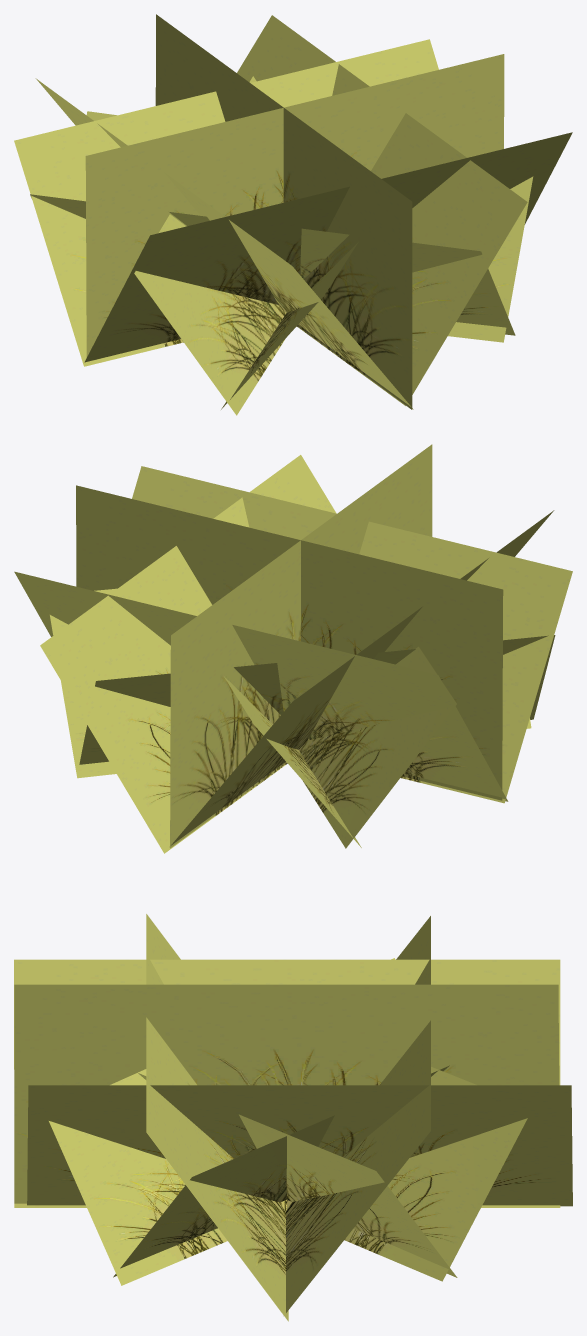
The model's file is grass.glb.
3 views of the same model, one above another, from view 1: azimuth 30°, elevation 25°; view 2: azimuth 150°, elevation 25°; view 3: azimuth 270°, elevation 25° (orthographic). The views are drawn at different scales.
Visible parts, largest first — view 1: body; view 2: body; view 3: body.
Part boxes in pixels (x1=…): body: x1=14, y1=14, x2=572, y2=415; body: x1=14, y1=444, x2=572, y2=853; body: x1=14, y1=914, x2=572, y2=1321.
Size of the model in its own units: 1.34 by 0.6283 by 1.43.
Materials: 1 (1 with a texture image).
